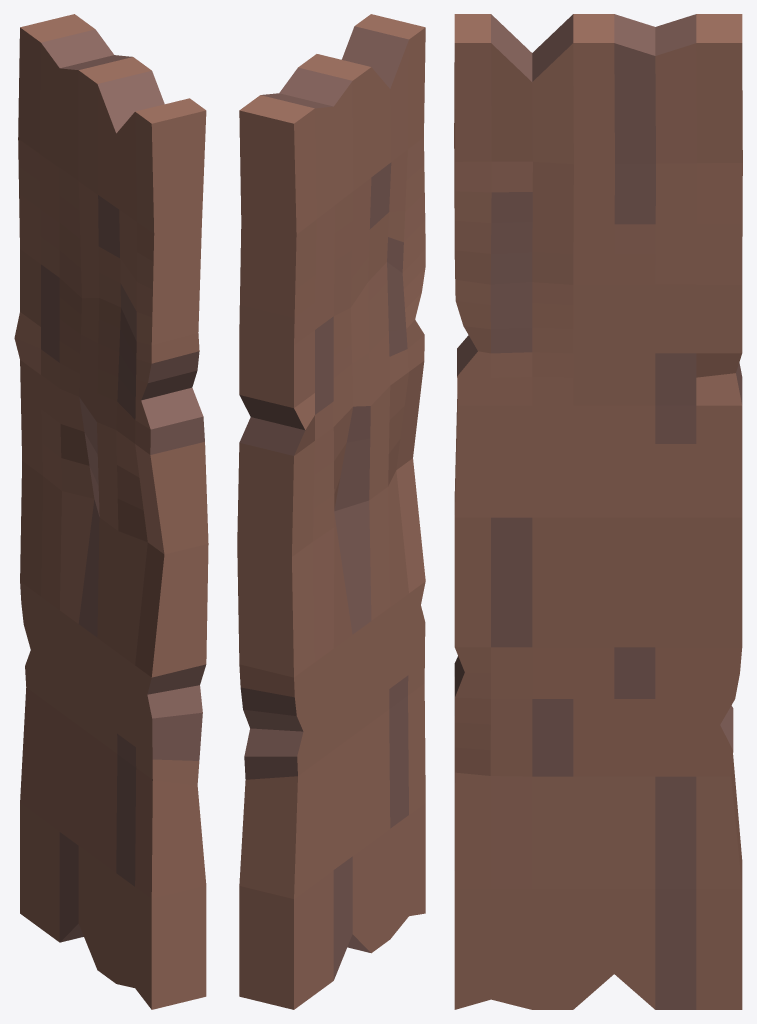
Rendered from wood plank.fbx.
3 views of the same model, side by side, from view 1: azimuth 30°, elevation 25°; view 2: azimuth 150°, elevation 25°; view 3: azimuth 270°, elevation 25° (orthographic). The views are drawn at different scales.
Parts seen in each view (by area): view 1: Cube; view 2: Cube; view 3: Cube.
Part boxes in pixels (box(x1,y1,x2,y2)): Cube: box(14, 14, 208, 1009); Cube: box(237, 14, 425, 1009); Cube: box(454, 14, 742, 1009).
Size of the model in its own units: 47.39 by 616 by 167.
